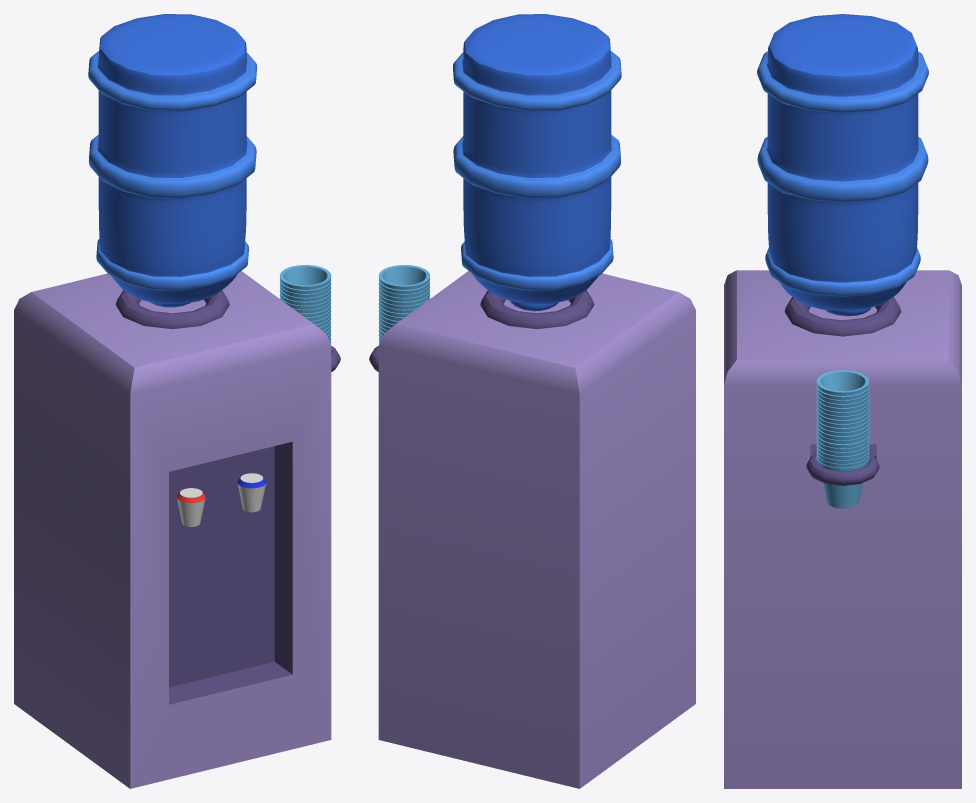
The model's file is Dispensador.glb.
3 renders of one model, left to right at view 1: azimuth 30°, elevation 25°; view 2: azimuth 150°, elevation 25°; view 3: azimuth 270°, elevation 25°, orthographic. The views are drawn at different scales.
Parts seen in each view (by area): view 1: Cube; view 2: Cube; view 3: Cube.
Part boxes in pixels (box(x1,y1,x2,y2)): Cube: box(14, 14, 340, 788); Cube: box(369, 14, 695, 788); Cube: box(724, 14, 961, 788).
Size of the model in its own units: 1.31 by 3.22 by 0.9959.
